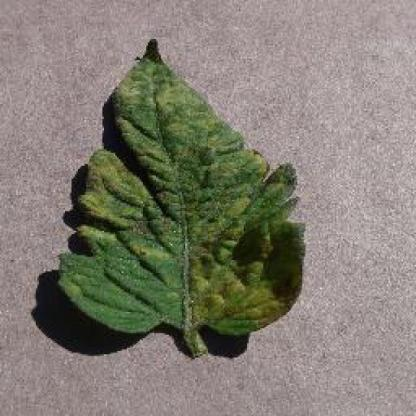Tomato_Leaf_Mold: (60, 40, 304, 332)
